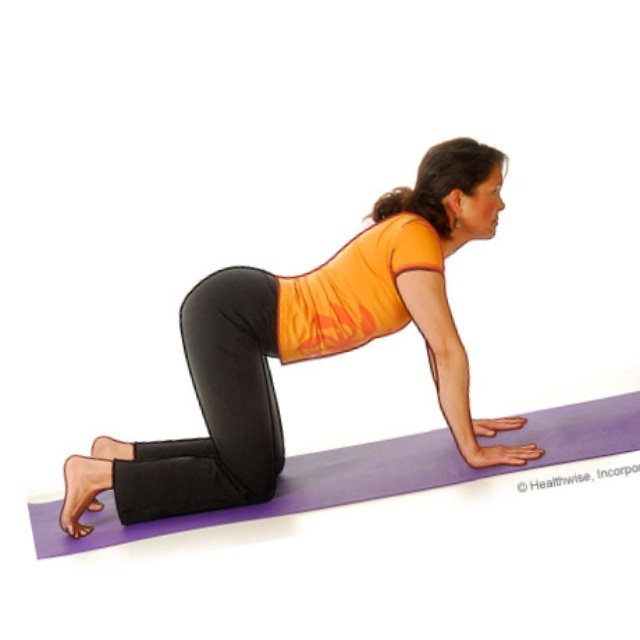Cow_Pose: (58, 136, 545, 541)
